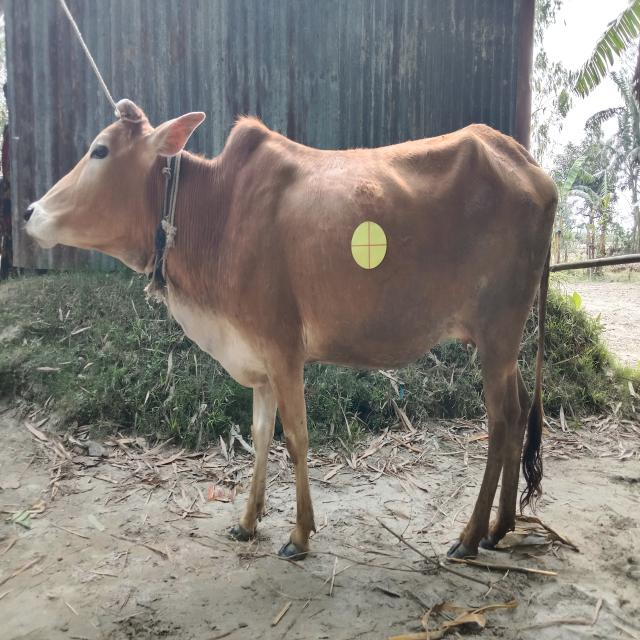badan_sapi: (228, 153, 550, 370)
sapi: (14, 72, 578, 574)
